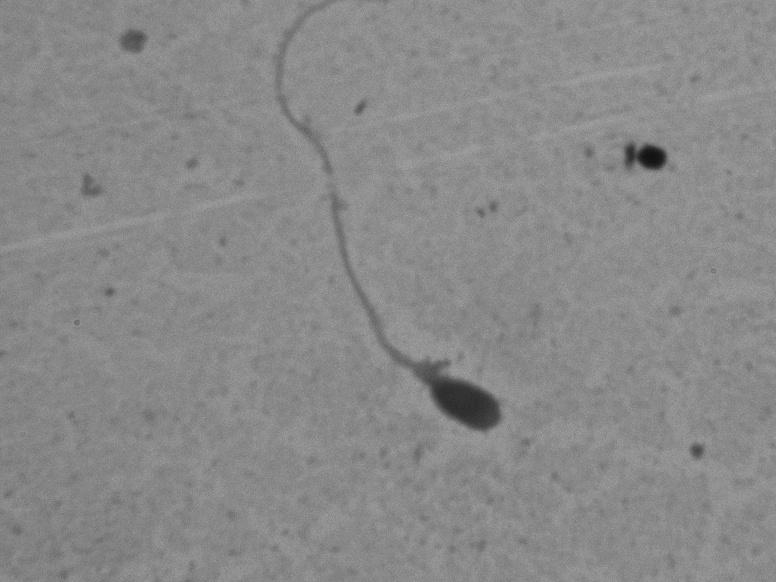Abnormal: (251, 5, 563, 447)
